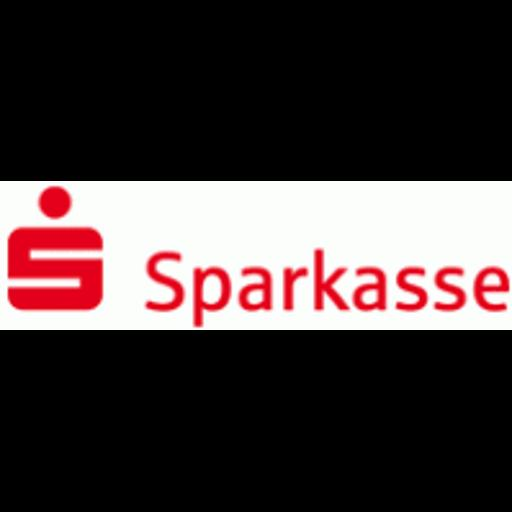Sparkasse Bank: (0, 181, 512, 330)
